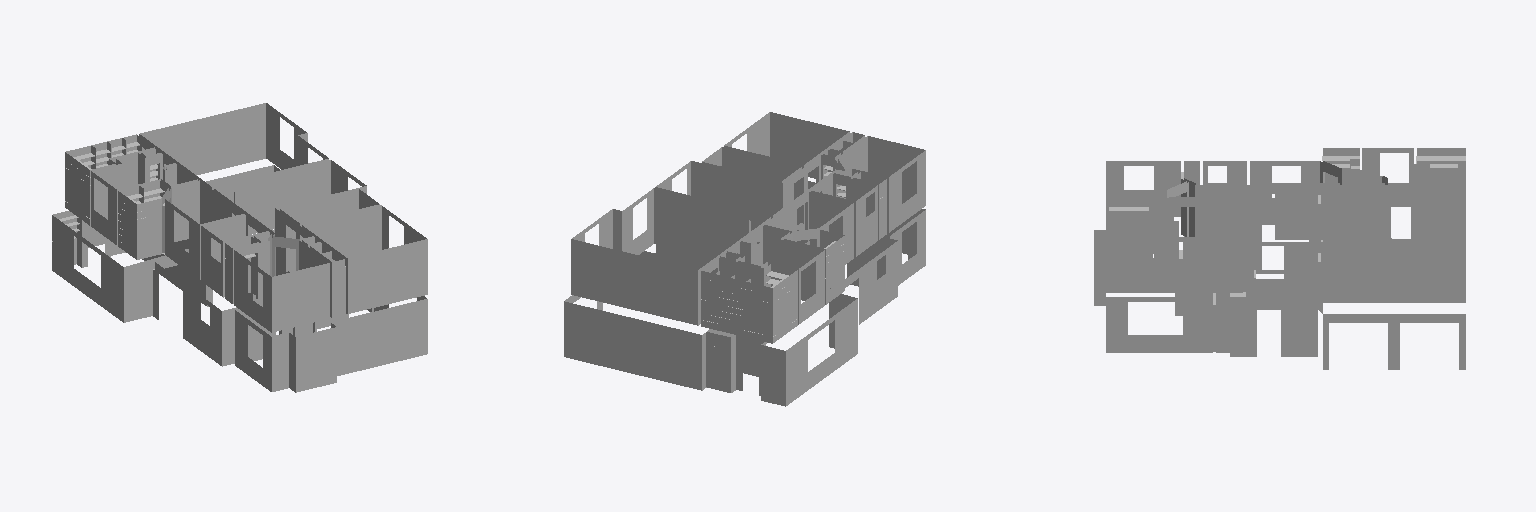
The model's file is walls.obj.
3 views of the same model, side by side, from view 1: azimuth 30°, elevation 25°; view 2: azimuth 150°, elevation 25°; view 3: azimuth 270°, elevation 25° (orthographic).
Parts seen in each view (by area): view 1: SM_Walls_03, SM_Walls_09, SM_Walls_10, SM_Walls_13, SM_Walls_12, SM_Walls_05, SM_Walls_06, SM_Walls_14, SM_Walls_04, SM_Walls_15, SM_Walls_11, SM_Walls_08 (+2 smaller); view 2: SM_Walls_13, SM_Walls_garage, SM_Walls_05, SM_Walls_15, SM_Walls_10, SM_Walls_12, SM_Walls_09, SM_Walls_14, SM_Walls_06, SM_Walls_04, SM_Walls_11, SM_Walls_08 (+2 smaller); view 3: SM_Walls_13, SM_Walls_09, SM_Walls_03, SM_Walls_01, SM_Walls_07, SM_Walls_garage, SM_Walls_08, SM_Walls_06, SM_Walls_12, SM_Walls_10, SM_Walls_14, SM_Walls_15 (+3 smaller).
Boxes of the visible parts, x1=… form: SM_Walls_03: x1=235, y1=296, x2=427, y2=392; SM_Walls_09: x1=300, y1=205, x2=427, y2=317; SM_Walls_10: x1=225, y1=237, x2=329, y2=332; SM_Walls_13: x1=139, y1=103, x2=328, y2=202; SM_Walls_12: x1=118, y1=180, x2=244, y2=279; SM_Walls_05: x1=52, y1=211, x2=205, y2=322; SM_Walls_06: x1=214, y1=160, x2=366, y2=234; SM_Walls_14: x1=91, y1=149, x2=197, y2=245; SM_Walls_04: x1=153, y1=252, x2=292, y2=366; SM_Walls_15: x1=65, y1=134, x2=154, y2=225; SM_Walls_11: x1=201, y1=215, x2=271, y2=297; SM_Walls_08: x1=280, y1=189, x2=379, y2=271; SM_Walls_13: x1=571, y1=188, x2=770, y2=325; SM_Walls_garage: x1=564, y1=251, x2=766, y2=390; SM_Walls_05: x1=706, y1=294, x2=857, y2=406; SM_Walls_15: x1=701, y1=258, x2=797, y2=343; SM_Walls_10: x1=835, y1=136, x2=925, y2=239; SM_Walls_12: x1=764, y1=192, x2=853, y2=304; SM_Walls_09: x1=724, y1=112, x2=864, y2=183; SM_Walls_14: x1=720, y1=226, x2=824, y2=324; SM_Walls_06: x1=655, y1=161, x2=782, y2=230; SM_Walls_04: x1=797, y1=223, x2=897, y2=324; SM_Walls_11: x1=811, y1=170, x2=877, y2=256; SM_Walls_08: x1=702, y1=147, x2=803, y2=223; SM_Walls_13: x1=1318, y1=185, x2=1465, y2=301; SM_Walls_09: x1=1106, y1=191, x2=1198, y2=292; SM_Walls_03: x1=1094, y1=221, x2=1215, y2=352; SM_Walls_01: x1=1216, y1=270, x2=1317, y2=356; SM_Walls_07: x1=1155, y1=182, x2=1317, y2=252; SM_Walls_garage: x1=1318, y1=247, x2=1465, y2=369; SM_Walls_08: x1=1201, y1=198, x2=1242, y2=292; SM_Walls_06: x1=1246, y1=242, x2=1317, y2=297; SM_Walls_12: x1=1250, y1=148, x2=1359, y2=216; SM_Walls_10: x1=1106, y1=161, x2=1199, y2=236; SM_Walls_14: x1=1343, y1=148, x2=1426, y2=203; SM_Walls_15: x1=1416, y1=148, x2=1465, y2=203.
Size of the model in its own units: 10.4 by 5.38 by 15.13.